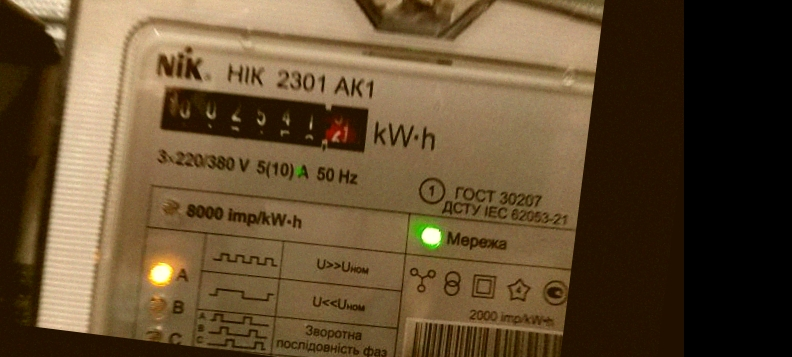0: (173, 92, 194, 121), (201, 93, 218, 121)
1: (301, 103, 317, 132)
2: (225, 96, 244, 123)
4: (277, 101, 293, 126)
5: (250, 98, 271, 128)
6: (327, 124, 344, 143)
screen: (145, 67, 385, 167)
